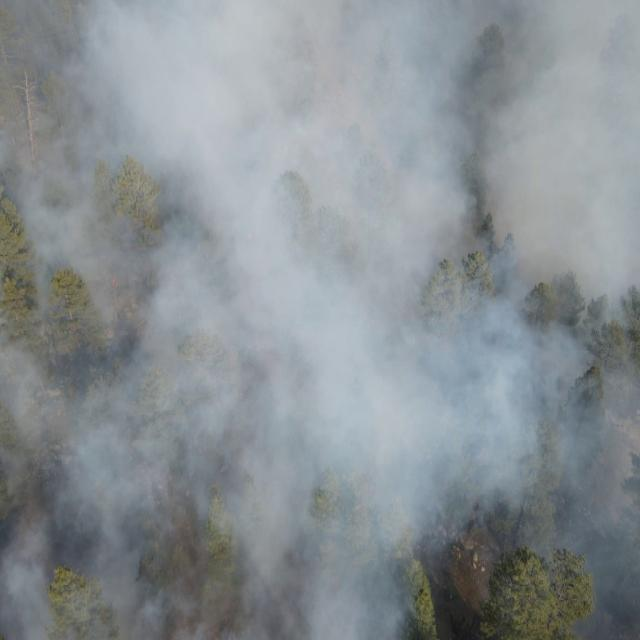fire: (105, 269, 122, 290)
smoke: (1, 0, 640, 640)
